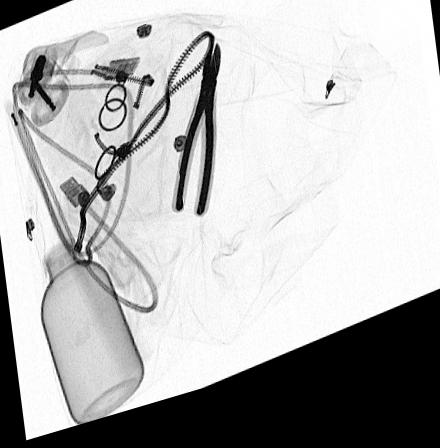Pliers: (173, 52, 221, 228)
